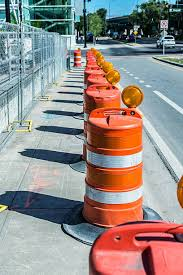barrel: (87, 109, 144, 224), (84, 86, 124, 150)
